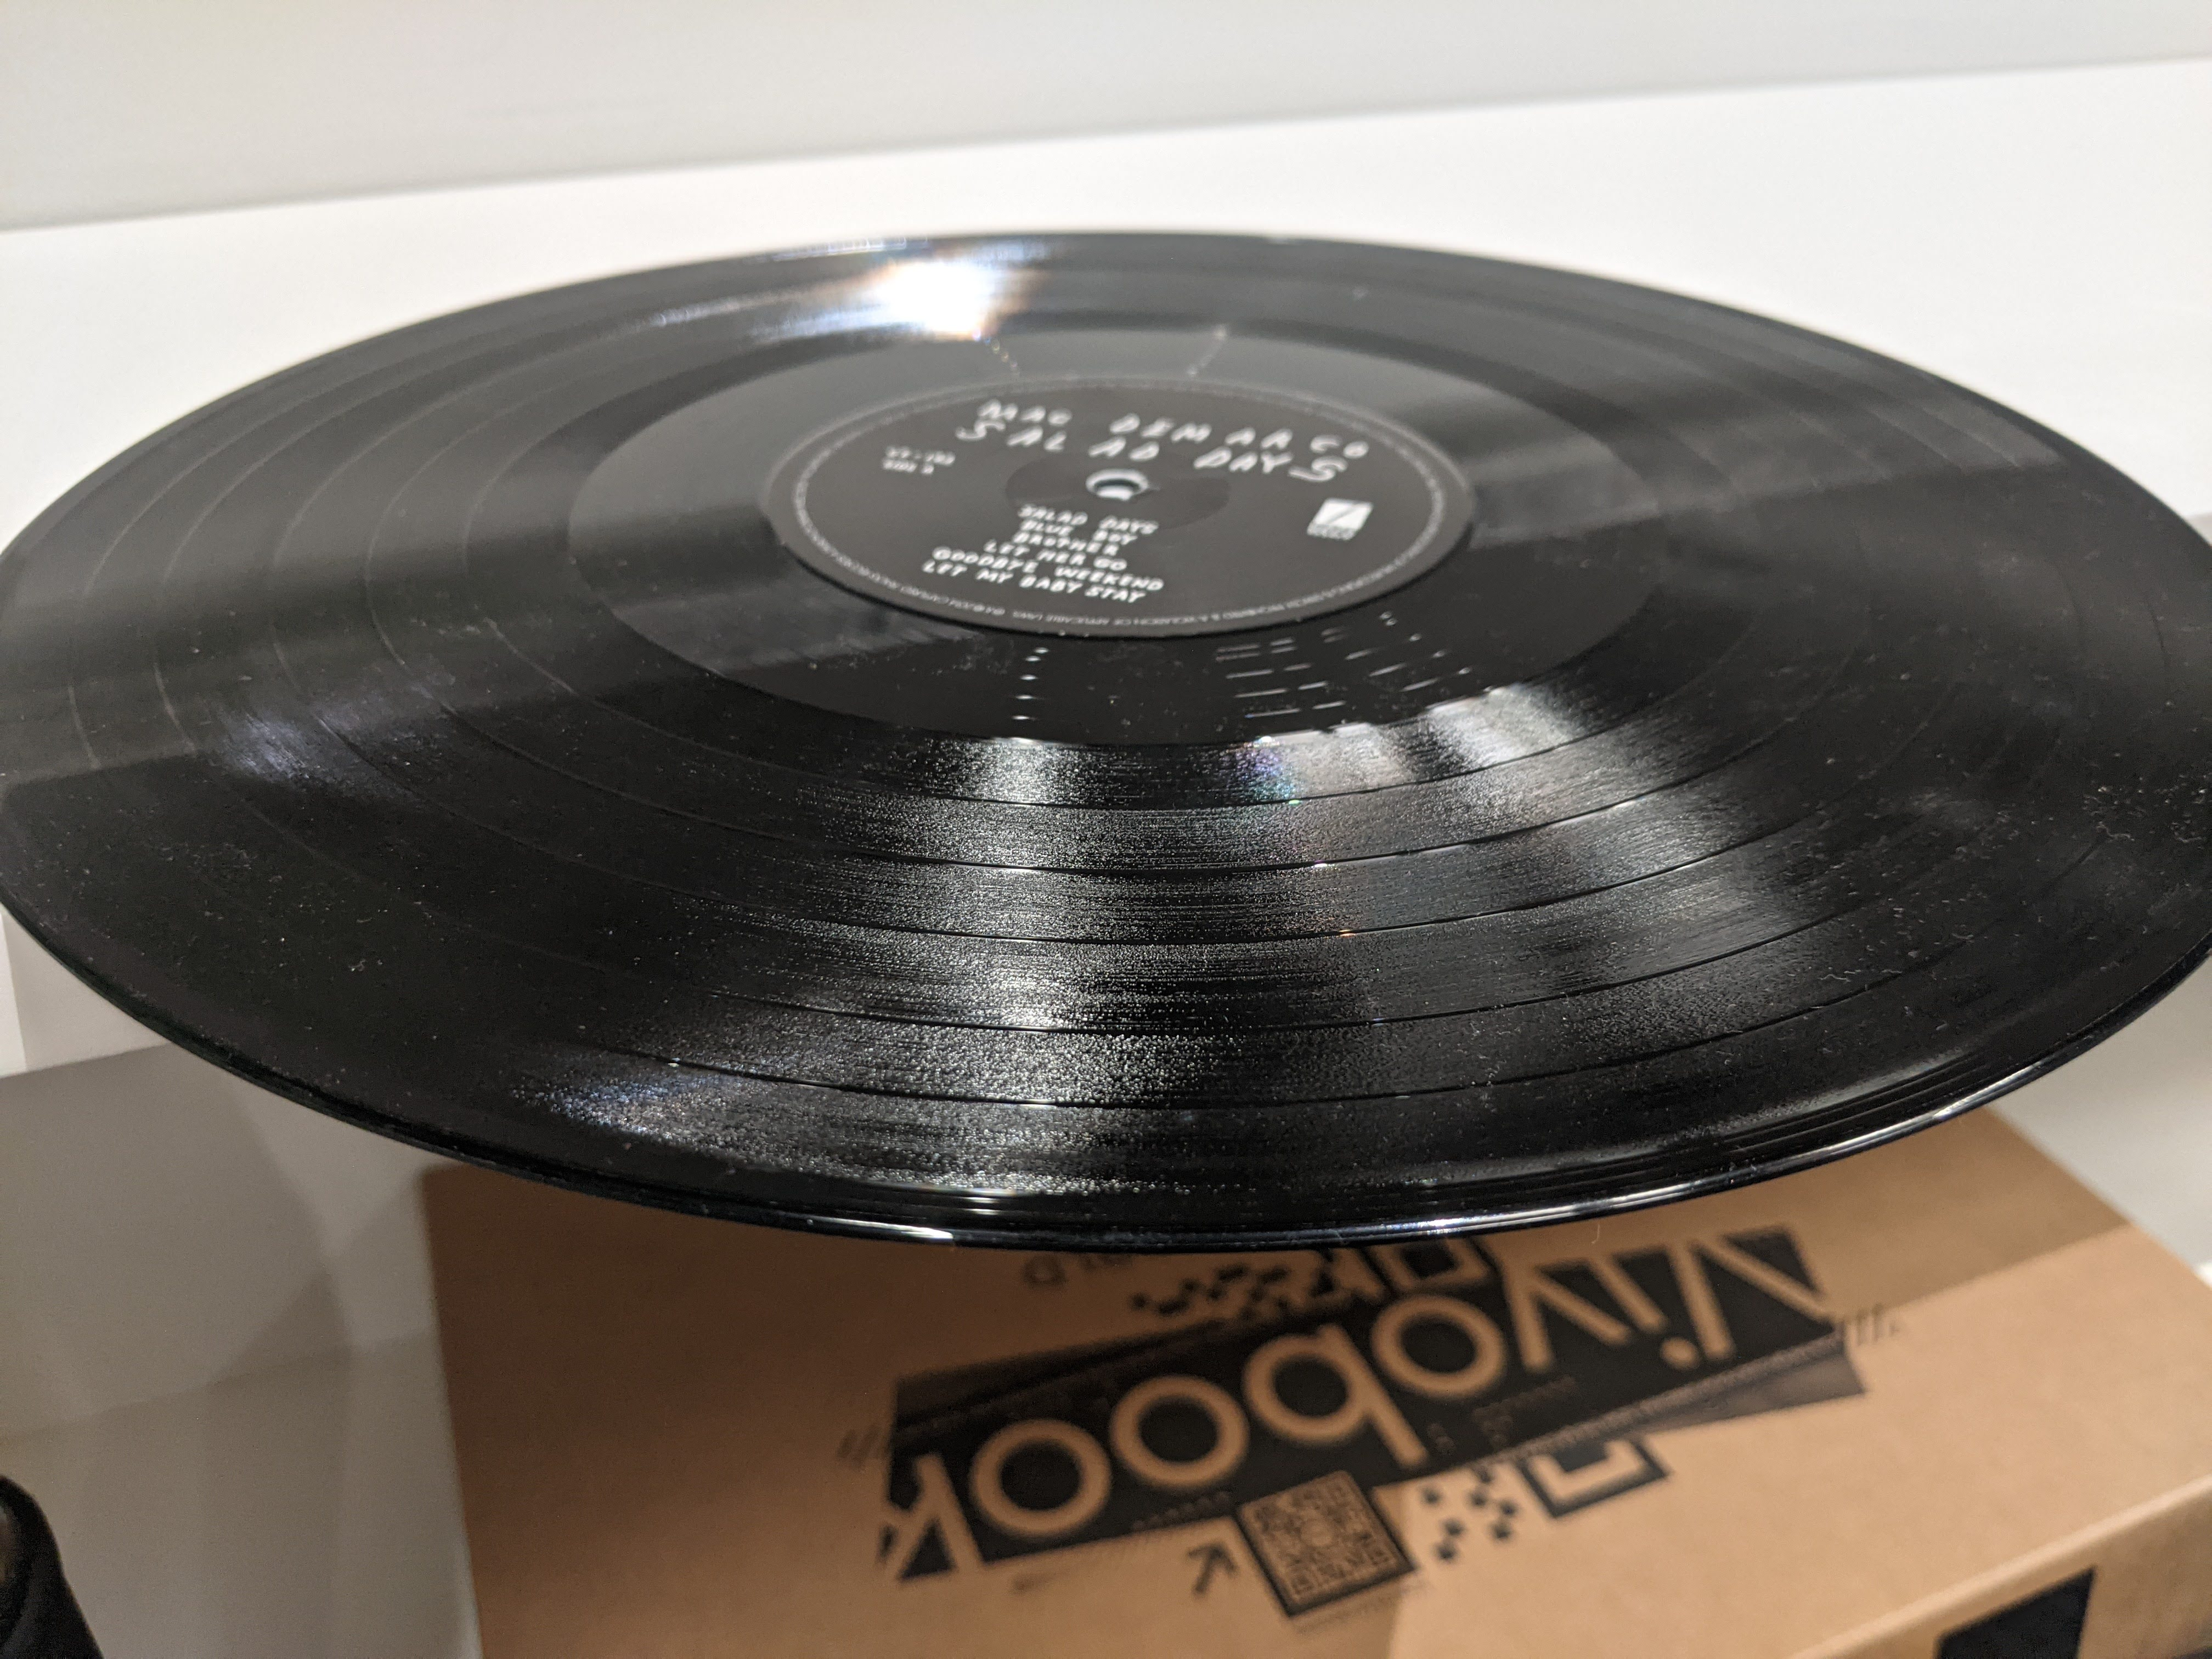song_edge: (369, 643, 479, 746), (444, 570, 552, 666), (246, 629, 340, 739), (42, 664, 118, 791), (125, 586, 186, 680)
